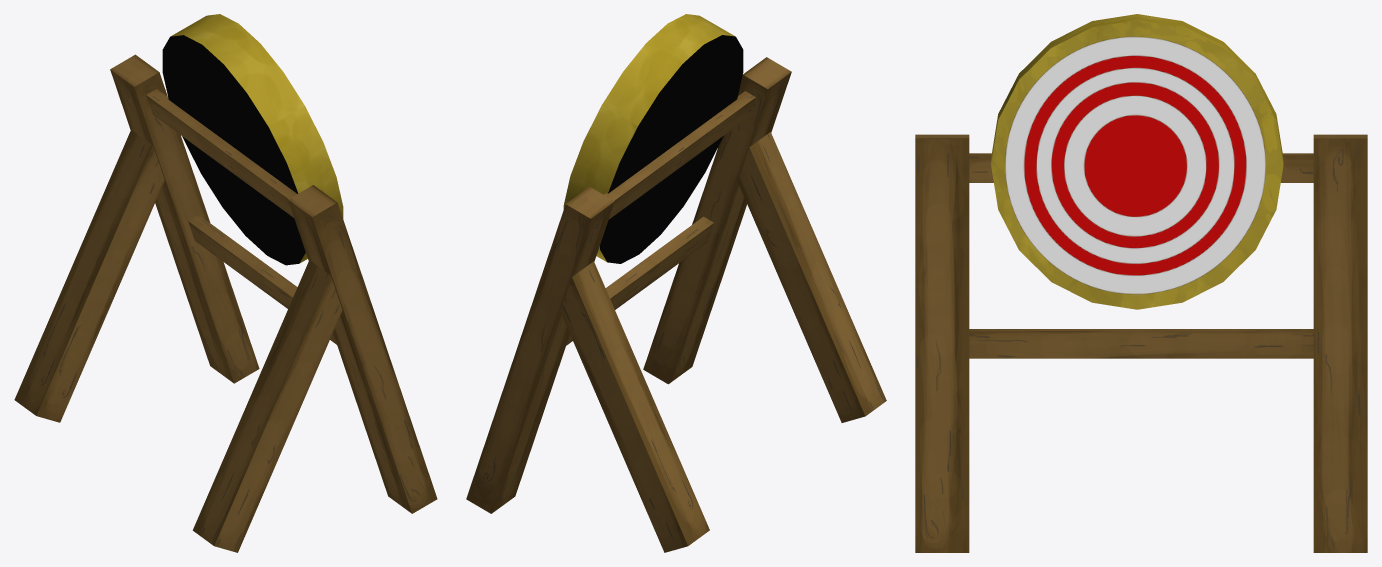
The model's file is target 1.fbx.
The picture shows the model from 3 angles, left to right: view 1: azimuth 30°, elevation 25°; view 2: azimuth 150°, elevation 25°; view 3: azimuth 270°, elevation 25°; orthographic projection. The views are drawn at different scales.
Parts seen in each view (by area): view 1: pCylinder1, pCube3, pCube4, pCube1, pCube2, pCube6, pCube5; view 2: pCylinder1, pCube3, pCube4, pCube2, pCube1, pCube6, pCube5; view 3: pCylinder1, pCube1, pCube2, pCube5, pCube6.
Part boxes in pixels (left/top/right/bottom): pCylinder1: left=162, top=14, right=343, bottom=265; pCube3: left=14, top=129, right=164, bottom=422; pCube4: left=192, top=260, right=342, bottom=552; pCube1: left=288, top=185, right=437, bottom=513; pCube2: left=110, top=54, right=259, bottom=383; pCube6: left=146, top=89, right=296, bottom=217; pCube5: left=188, top=215, right=336, bottom=344; pCylinder1: left=563, top=14, right=743, bottom=263; pCube3: left=560, top=261, right=709, bottom=552; pCube4: left=737, top=132, right=886, bottom=422; pCube2: left=466, top=186, right=614, bottom=513; pCube1: left=643, top=57, right=791, bottom=384; pCube6: left=604, top=91, right=755, bottom=219; pCube5: left=566, top=216, right=713, bottom=345; pCylinder1: left=991, top=14, right=1283, bottom=309; pCube1: left=915, top=134, right=969, bottom=552; pCube2: left=1313, top=134, right=1367, bottom=552; pCube5: left=969, top=329, right=1313, bottom=358; pCube6: left=969, top=153, right=1313, bottom=182.
Size of the model in its own units: 8605 by 16132 by 13556.
